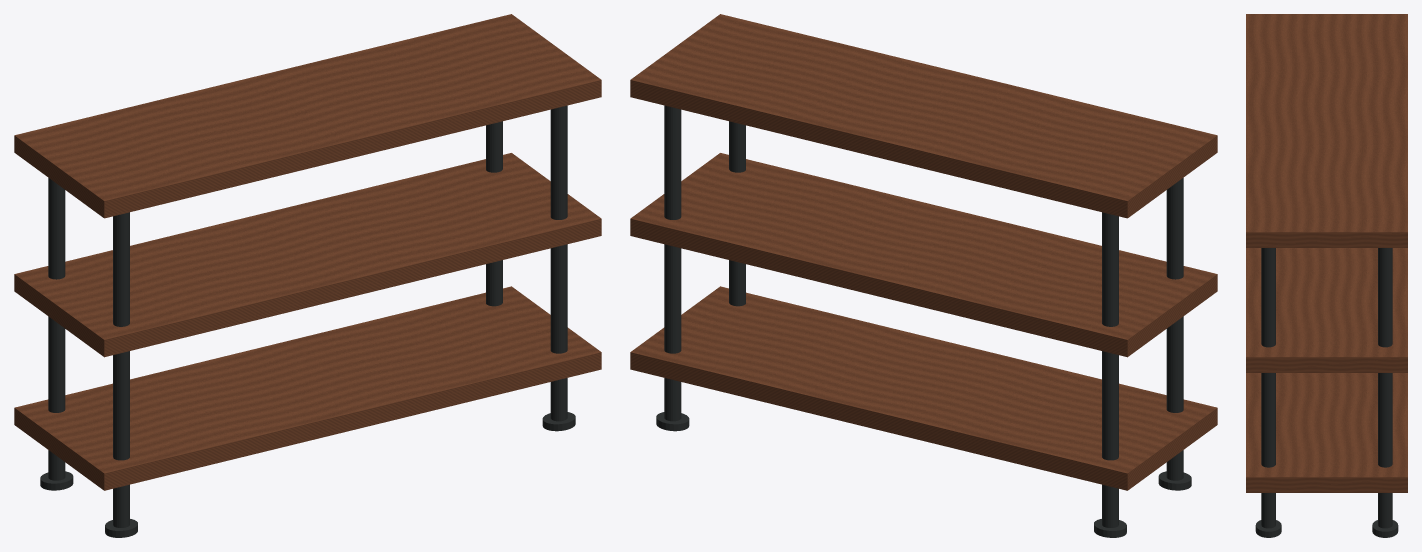
The picture shows the model from 3 angles, left to right: view 1: azimuth 30°, elevation 25°; view 2: azimuth 150°, elevation 25°; view 3: azimuth 270°, elevation 25°; orthographic projection. The views are drawn at different scales.
Parts seen in each view (by area): view 1: 1 top_shelf, 2 middle_shelf, 3 bottom_shelf, 5 front_right_pipe, 4 front_left_pipe, 6 back_left_pipe, 7 back_right_pipe; view 2: 1 top_shelf, 2 middle_shelf, 3 bottom_shelf, 7 back_right_pipe, 6 back_left_pipe, 4 front_left_pipe, 5 front_right_pipe; view 3: 1 top_shelf, 2 middle_shelf, 3 bottom_shelf, 5 front_right_pipe, 7 back_right_pipe, 9 front_right_flange, 11 back_right_flange.
Boxes of the visible parts, x1=… form: 1 top_shelf: x1=14, y1=14, x2=601, y2=218; 2 middle_shelf: x1=14, y1=153, x2=601, y2=357; 3 bottom_shelf: x1=14, y1=286, x2=601, y2=490; 5 front_right_pipe: x1=550, y1=105, x2=567, y2=421; 4 front_left_pipe: x1=113, y1=212, x2=129, y2=527; 6 back_left_pipe: x1=48, y1=178, x2=65, y2=480; 7 back_right_pipe: x1=486, y1=121, x2=502, y2=306; 1 top_shelf: x1=630, y1=14, x2=1217, y2=218; 2 middle_shelf: x1=630, y1=153, x2=1217, y2=357; 3 bottom_shelf: x1=630, y1=286, x2=1217, y2=490; 7 back_right_pipe: x1=664, y1=105, x2=681, y2=421; 6 back_left_pipe: x1=1102, y1=212, x2=1118, y2=527; 4 front_left_pipe: x1=1166, y1=178, x2=1183, y2=480; 5 front_right_pipe: x1=729, y1=121, x2=745, y2=306; 1 top_shelf: x1=1246, y1=14, x2=1407, y2=247; 2 middle_shelf: x1=1246, y1=248, x2=1407, y2=372; 3 bottom_shelf: x1=1246, y1=373, x2=1407, y2=492; 5 front_right_pipe: x1=1261, y1=248, x2=1275, y2=528; 7 back_right_pipe: x1=1378, y1=248, x2=1392, y2=528; 9 front_right_flange: x1=1255, y1=520, x2=1281, y2=537; 11 back_right_flange: x1=1372, y1=520, x2=1398, y2=537.
Bounding box in the file's own units: 1.5 × 1 × 0.47.
2 materials, 1 textured.
